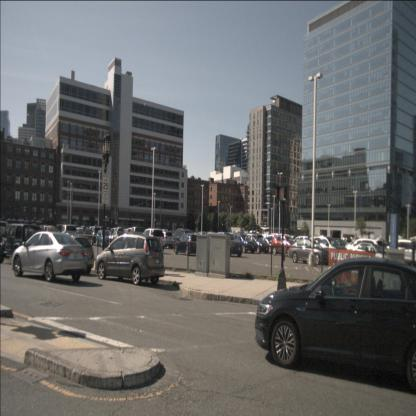vehicle-car: (254, 257, 416, 394), (12, 231, 88, 282), (94, 235, 166, 286), (52, 235, 95, 276), (0, 223, 39, 264), (309, 236, 348, 265), (288, 240, 332, 265), (348, 242, 390, 267), (344, 238, 379, 261), (215, 232, 243, 258), (174, 233, 202, 256), (271, 235, 299, 257), (140, 228, 164, 251), (230, 233, 254, 254), (173, 228, 197, 247), (244, 236, 268, 254), (84, 226, 104, 246), (109, 230, 130, 249), (155, 230, 174, 249), (59, 225, 77, 245), (96, 229, 113, 247), (127, 227, 144, 243), (0, 221, 12, 238), (44, 228, 56, 242)
